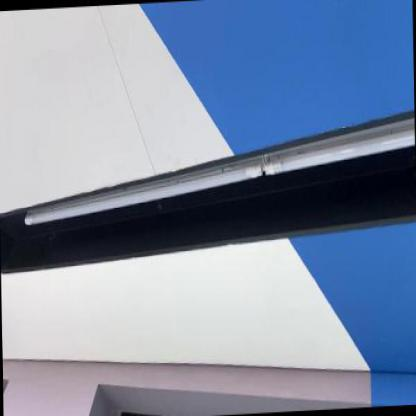light_off: (14, 78, 414, 251)
